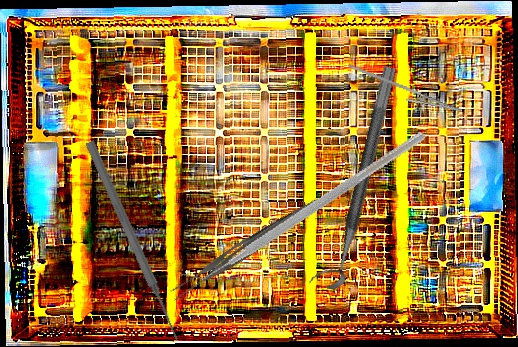Chopper: (178, 64, 427, 345)
Dressing Forceps: (165, 189, 326, 306)
Fixation Ring: (308, 61, 399, 292)
Needle Holder: (342, 63, 466, 122)
Pusher: (82, 139, 184, 343)
